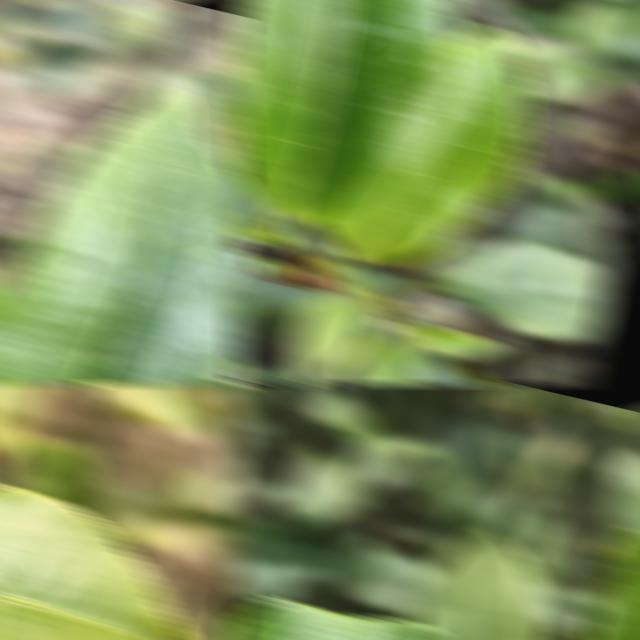Leaf: (0, 84, 242, 386), (315, 24, 529, 263), (230, 0, 457, 221), (0, 483, 191, 640), (422, 238, 612, 341), (408, 530, 554, 640), (230, 521, 334, 605), (277, 448, 371, 531), (16, 435, 106, 521), (289, 292, 371, 386), (87, 382, 211, 438), (580, 529, 640, 640), (349, 549, 437, 617), (522, 47, 607, 103), (300, 390, 375, 447), (337, 333, 416, 386), (402, 321, 502, 361), (603, 449, 640, 555), (564, 0, 631, 53), (398, 346, 473, 386), (21, 36, 105, 69), (0, 382, 53, 421), (204, 382, 242, 417), (0, 0, 19, 23)
